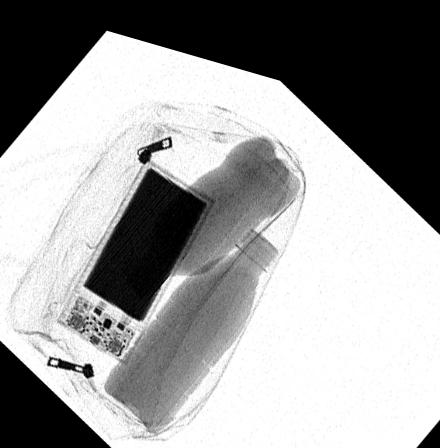Powerbank: (55, 148, 215, 356)
